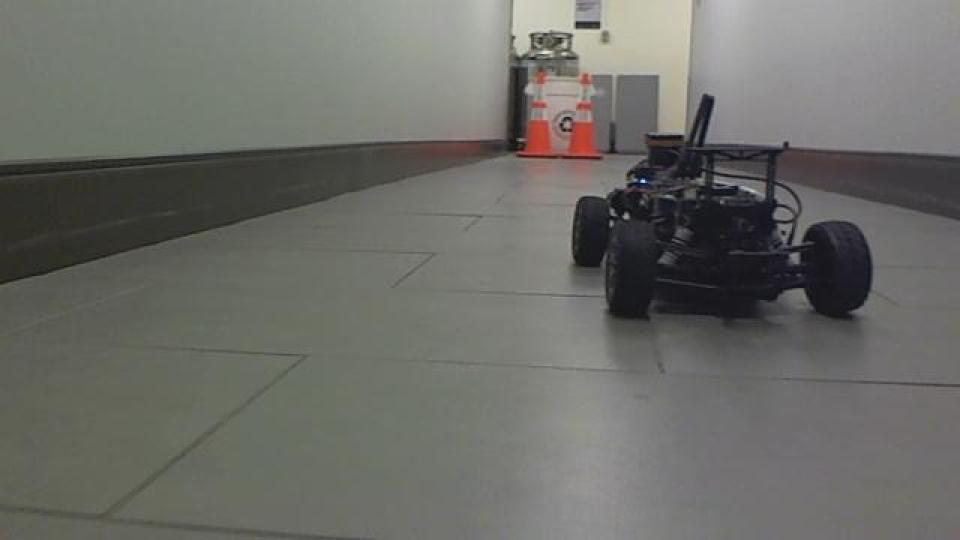car: (567, 90, 878, 322)
